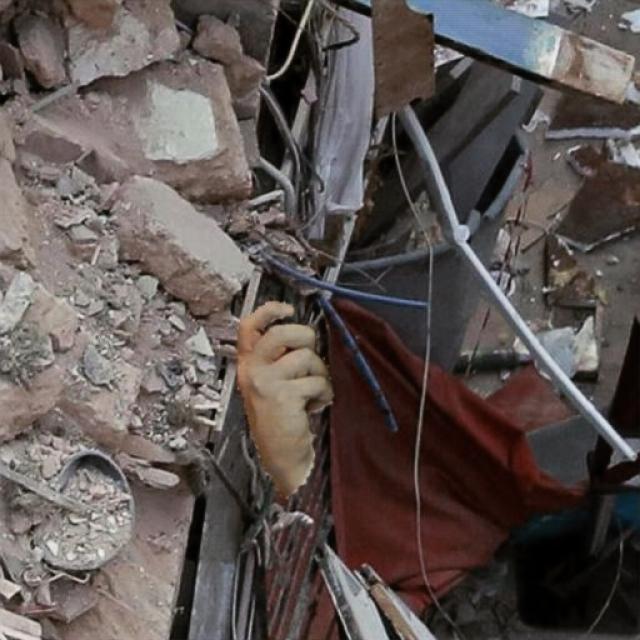Person in Rubble: (238, 302, 332, 498)
